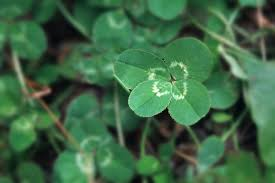4-clover: (114, 37, 213, 126)
